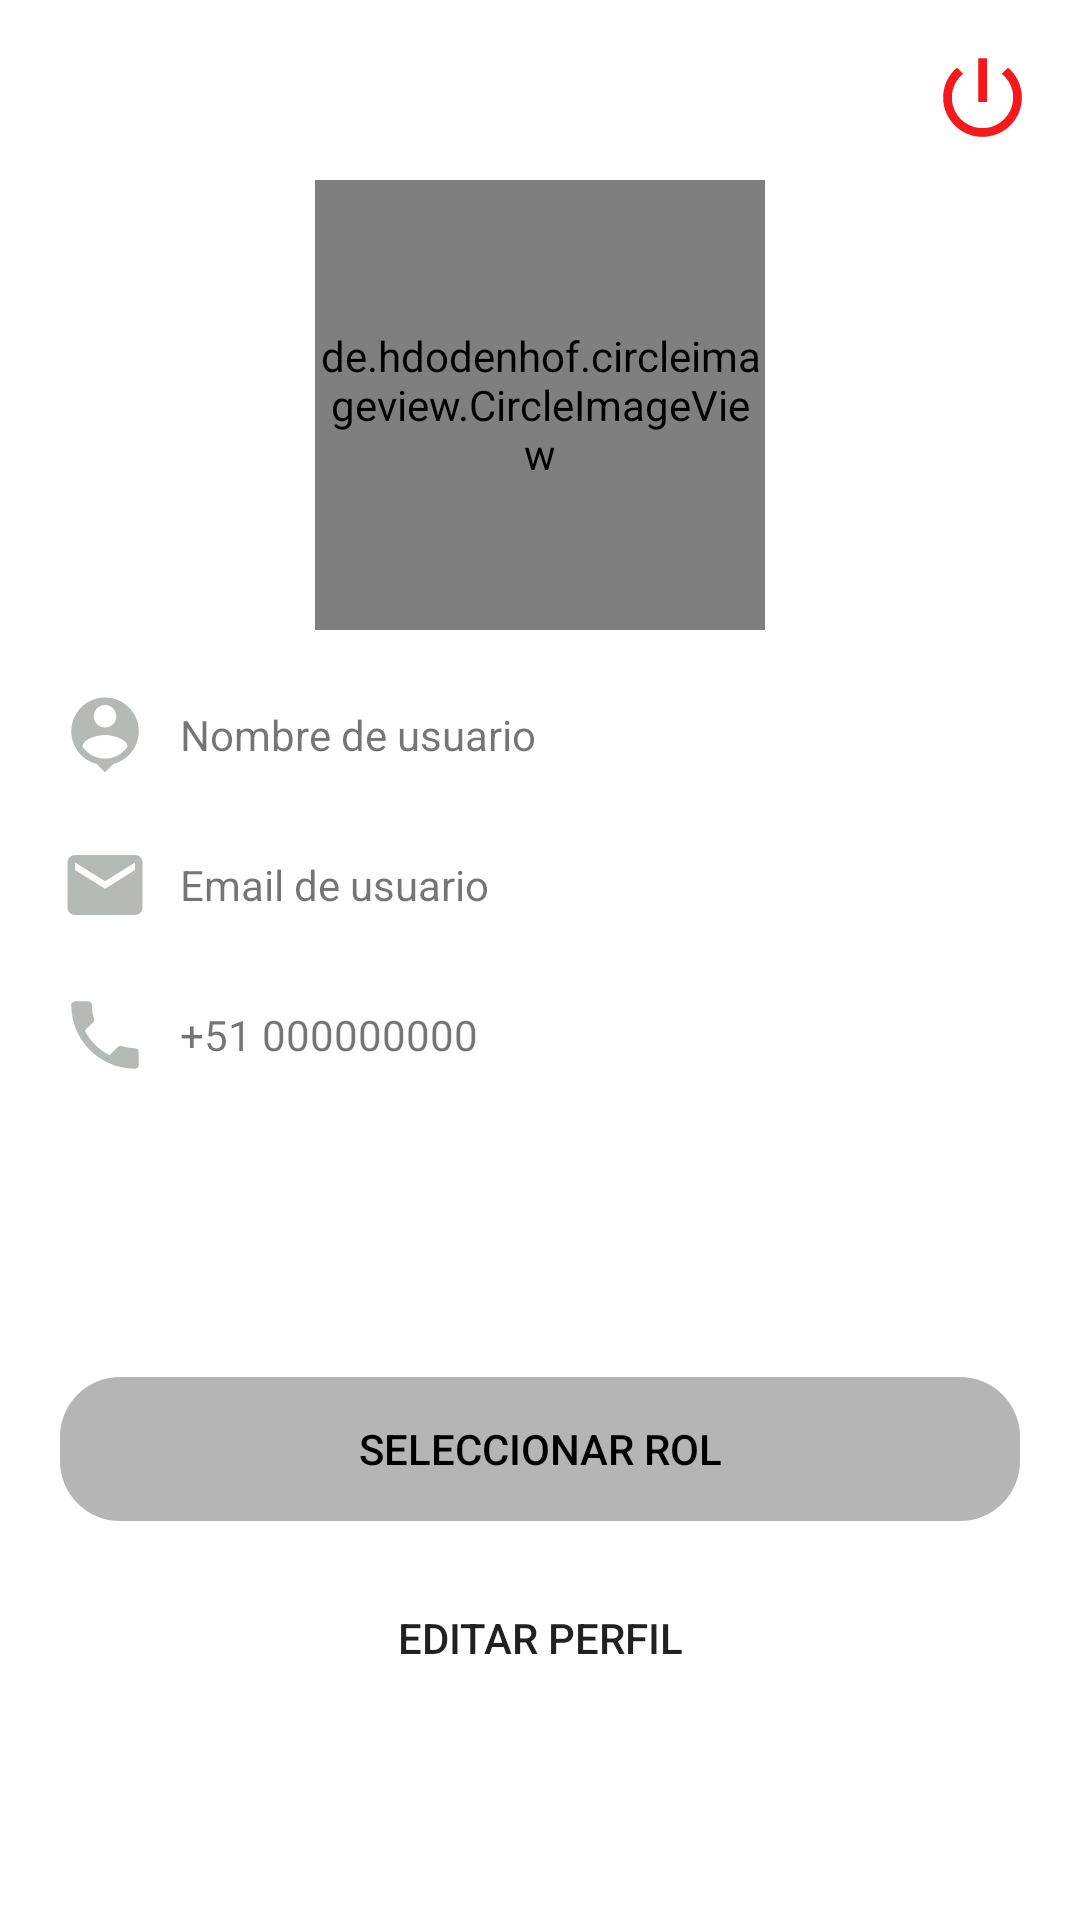

Point at icon controls on the screen. Image size 1080px×1920px, points as (x,y).
person pin: (105,734)
phone: (105,1035)
power: (982,97)
